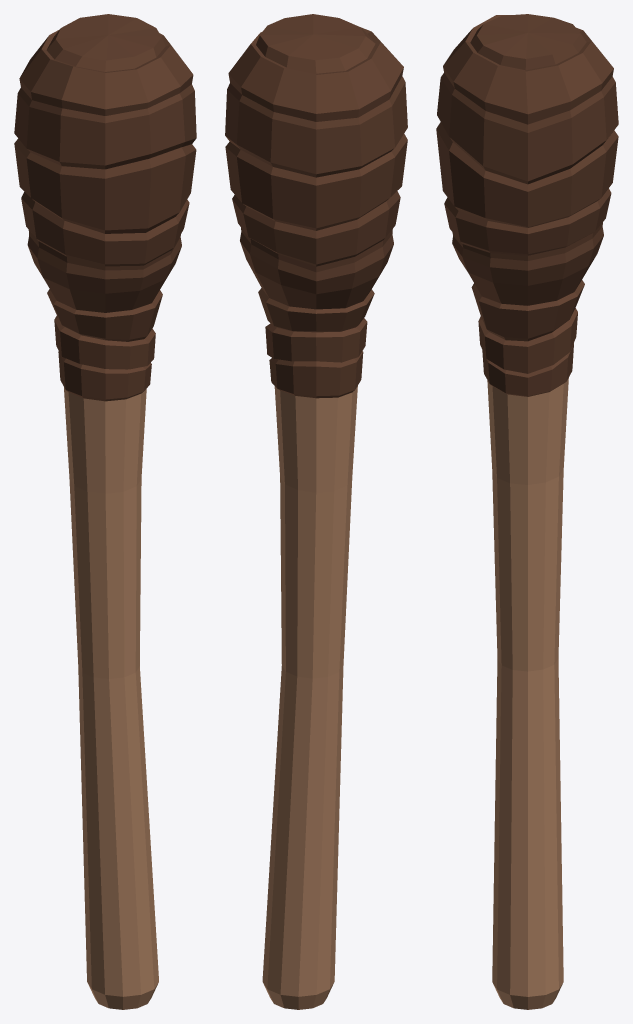
The model's file is Torch.fbx.
The picture shows the model from 3 angles, left to right: view 1: azimuth 30°, elevation 25°; view 2: azimuth 150°, elevation 25°; view 3: azimuth 270°, elevation 25°; orthographic projection.
Visible parts, largest first — view 1: Torch; view 2: Torch; view 3: Torch.
Part boxes in pixels (x1,y1,x2,y2): Torch: (14, 14, 196, 1009); Torch: (225, 14, 407, 1009); Torch: (436, 14, 618, 1009).
Bounding box in the file's own units: 14.52 × 85.36 × 14.74.
